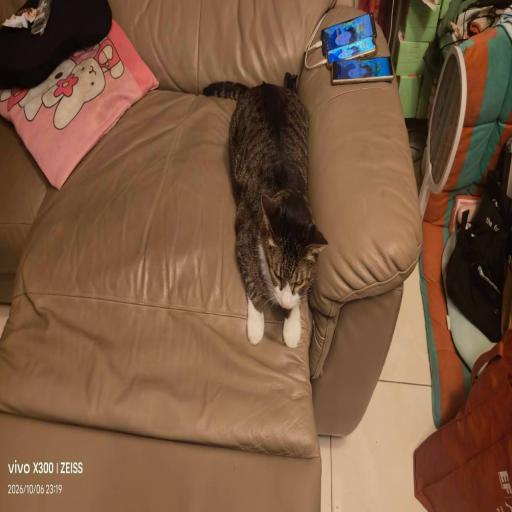cat: (230, 93, 310, 354)
